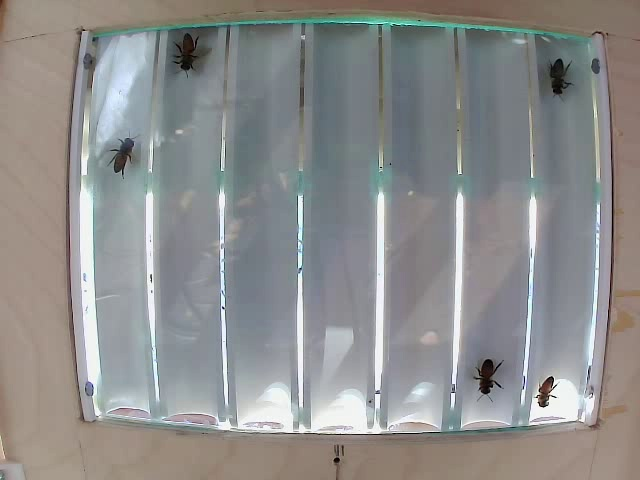bee: (163, 26, 206, 67), (98, 131, 136, 167), (542, 51, 567, 97), (469, 349, 496, 391), (530, 372, 548, 403)
